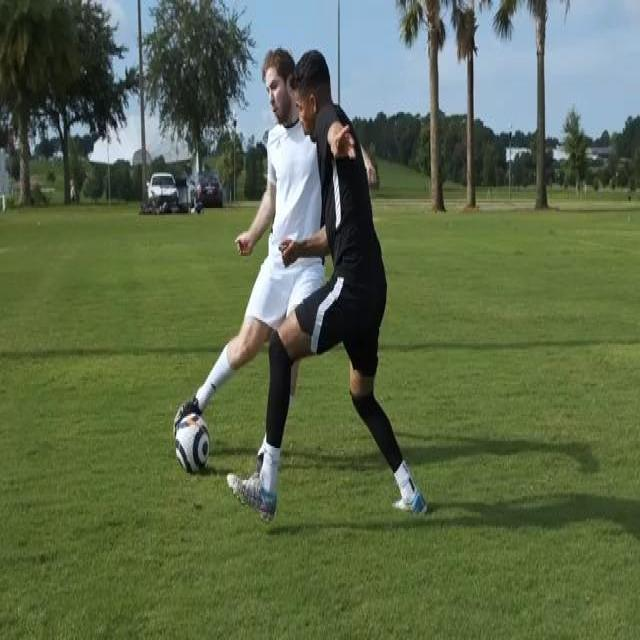Soccer Ball: (174, 409, 212, 476)
